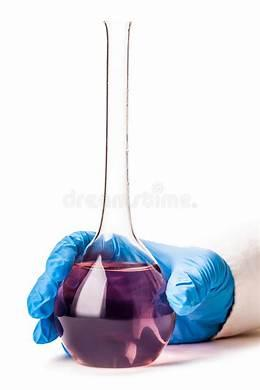Volumetric flask: (47, 22, 176, 364)
